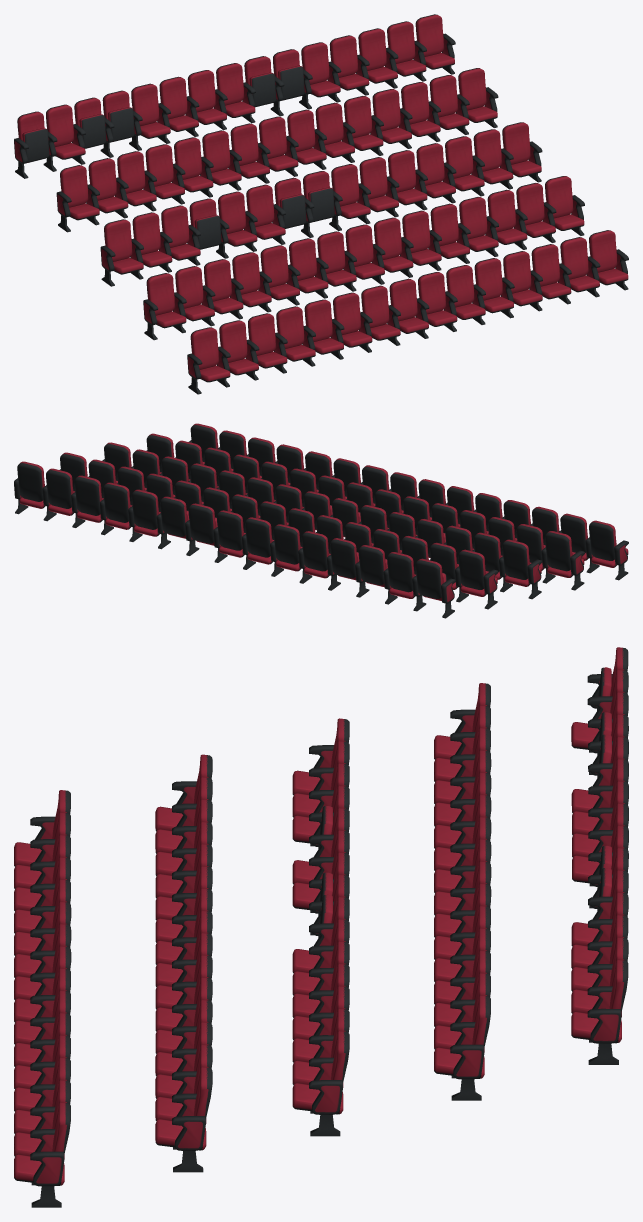
File: CinemaArmChair01new.FBX
3 views of the same model, one above another, from view 1: azimuth 30°, elevation 25°; view 2: azimuth 150°, elevation 25°; view 3: azimuth 270°, elevation 25° (orthographic). The views are drawn at different scales.
Parts seen in each view (by area): view 1: CinemaArmChair01new; view 2: CinemaArmChair01new; view 3: CinemaArmChair01new.
Part boxes in pixels (x1=…): CinemaArmChair01new: x1=14, y1=14, x2=628, y2=394; CinemaArmChair01new: x1=14, y1=423, x2=628, y2=618; CinemaArmChair01new: x1=14, y1=647, x2=628, y2=1207.
Size of the model in its own units: 1294 by 409 by 993.
